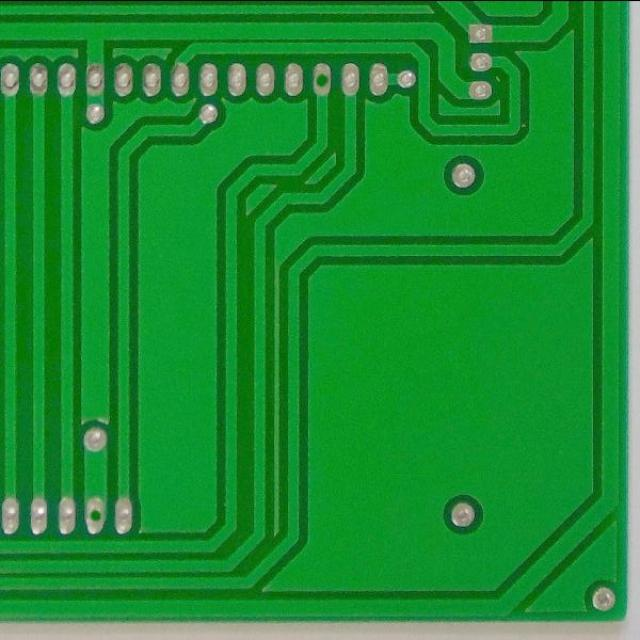Missing_Hole: (80, 495, 111, 534), (309, 62, 335, 98)
